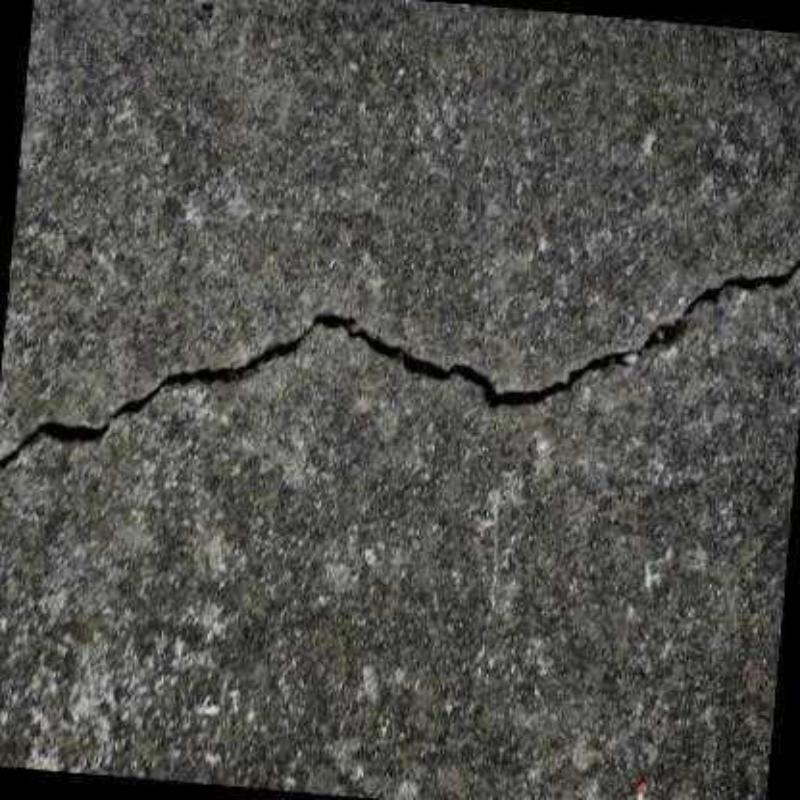crack: (0, 258, 800, 467)
